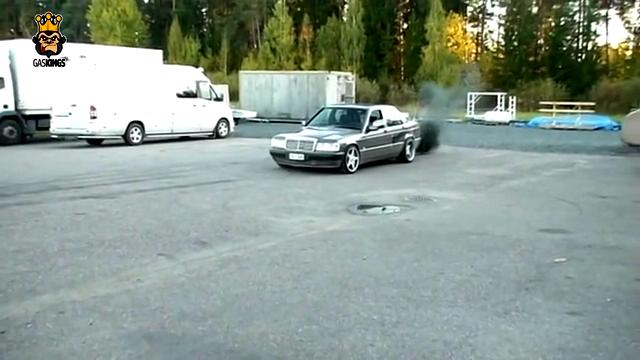smoke: (414, 76, 473, 157)
